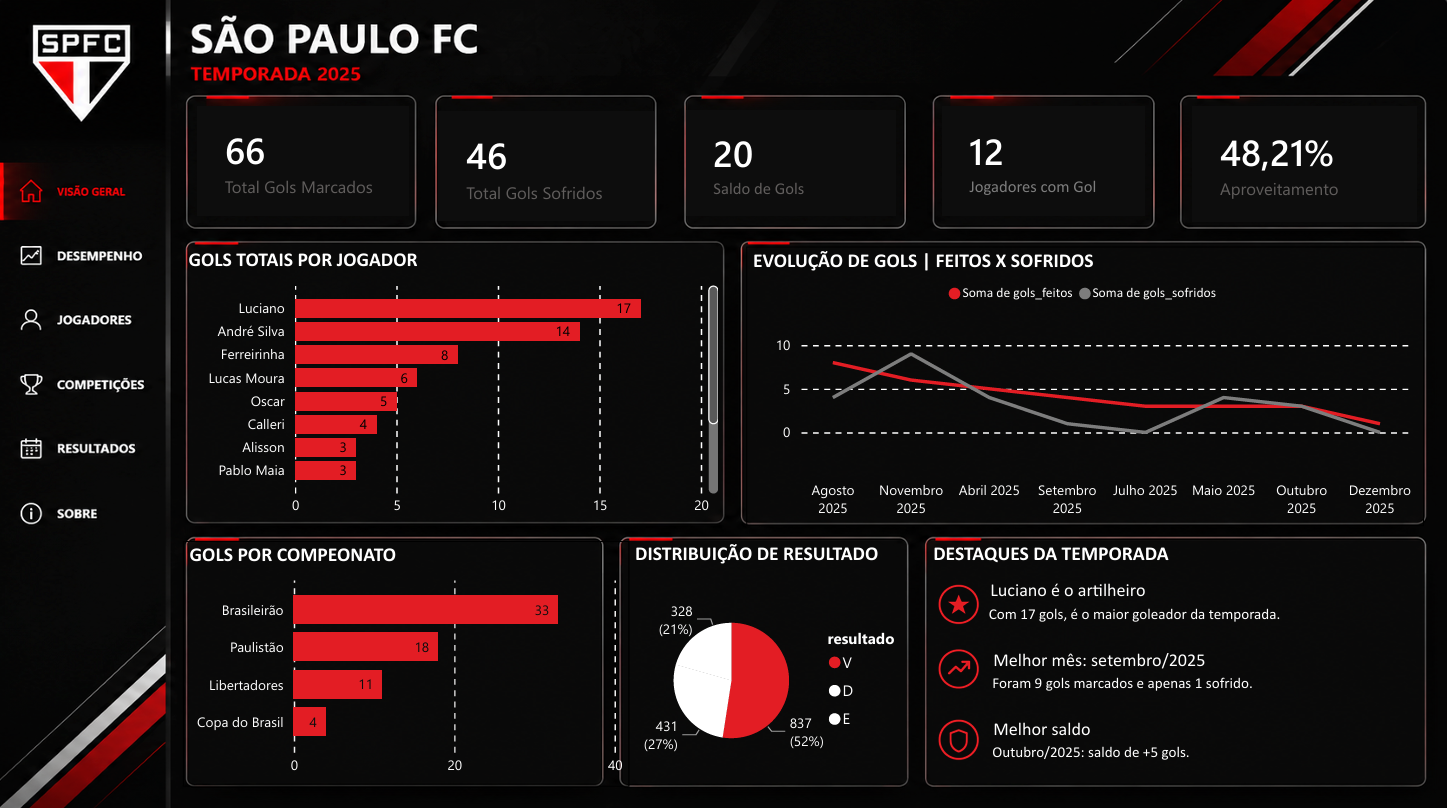

What the dashboard file says about the page in this screenshot:
{"tool":"powerbi","page":{"name":"Página 1","canvas":[1280,720],"ordinal":0},"visuals":[{"type":"cardVisual","fields":{"Data":["saopaulo_2025 jogos.Total Gols Marcados"]},"box":[171.1,88,197.6,107.2],"z":0},{"type":"cardVisual","fields":{"Data":["saopaulo_2025 jogos.Total Gols Sofridos"]},"box":[384.3,92.8,200,107.2],"z":1000},{"type":"cardVisual","fields":{"Data":["saopaulo_2025 jogos.Saldo de Gols"]},"box":[607.2,88,188,107.2],"z":2000},{"type":"cardVisual","fields":{"Data":["saopaulo_2025 artilheiros.Jogadores com Gol"]},"box":[827.7,88,189.2,107.2],"z":3000},{"type":"cardVisual","fields":{"Data":["saopaulo_2025 jogos.Aproveitamento"]},"box":[1049.4,88,208.4,112],"z":4000},{"type":"clusteredBarChart","title":"GOLS TOTAIS POR JOGADOR","fields":{"Category":["saopaulo_2025 artilheiros.jogador"],"Y":["Sum(saopaulo_2025 artilheiros.gols_total)"]},"box":[162.7,216.9,477.1,247],"z":5000},{"type":"barChart","title":"GOLS POR COMPEONATO","fields":{"Category":["saopaulo_2025 jogos.competicao"],"Y":["Sum(saopaulo_2025 jogos.gols_spfc)"]},"box":[162.9,476.5,361.9,217.2],"z":6000},{"type":"lineChart","title":"    EVOLUÇÃO DE GOLS | FEITOS X SOFRIDOS","fields":{"Y":["Sum(saopaulo_2025 desempenho_mensal.gols_feitos)","Sum(saopaulo_2025 desempenho_mensal.gols_sofridos)"],"Category":["saopaulo_2025 desempenho_mensal.mes"]},"box":[660.2,216.9,597.6,247],"z":7000},{"type":"pieChart","title":"DISTRIBUIÇÃO DE RESULTADO","fields":{"Y":["Sum(saopaulo_2025 jogos.id)"],"Category":["saopaulo_2025 jogos.resultado"]},"box":[556.6,477.1,257.8,225.3],"z":8000},{"type":"textbox","title":"DESTAQUES DA TEMPORADA","box":[820.5,477.1,437.3,225.3],"z":9000},{"type":"image","box":[827.7,509.6,38.6,45.8],"z":10000},{"type":"image","box":[827.7,567.5,38.6,45.8],"z":11000},{"type":"image","box":[827.7,630.1,38.6,44.6],"z":12000}]}

Visuals, with their boxes on the page's 1280x720 design canvas (x1, y1, x2, y2). These are canvas units, not pixel positions in the 1447x808 screenshot, which may show the page scaled, cropped or inside an application window:
cardVisual - saopaulo_2025 jogos.Total Gols Marcados: [171, 88, 369, 195]
cardVisual - saopaulo_2025 jogos.Total Gols Sofridos: [384, 93, 584, 200]
cardVisual - saopaulo_2025 jogos.Saldo de Gols: [607, 88, 795, 195]
cardVisual - saopaulo_2025 artilheiros.Jogadores com Gol: [828, 88, 1017, 195]
cardVisual - saopaulo_2025 jogos.Aproveitamento: [1049, 88, 1258, 200]
"GOLS TOTAIS POR JOGADOR" clusteredBarChart: [163, 217, 640, 464]
"GOLS POR COMPEONATO" barChart: [163, 476, 525, 694]
"    EVOLUÇÃO DE GOLS | FEITOS X SOFRIDOS" lineChart: [660, 217, 1258, 464]
"DISTRIBUIÇÃO DE RESULTADO" pieChart: [557, 477, 814, 702]
"DESTAQUES DA TEMPORADA" textbox: [820, 477, 1258, 702]
image: [828, 510, 866, 555]
image: [828, 568, 866, 613]
image: [828, 630, 866, 675]
